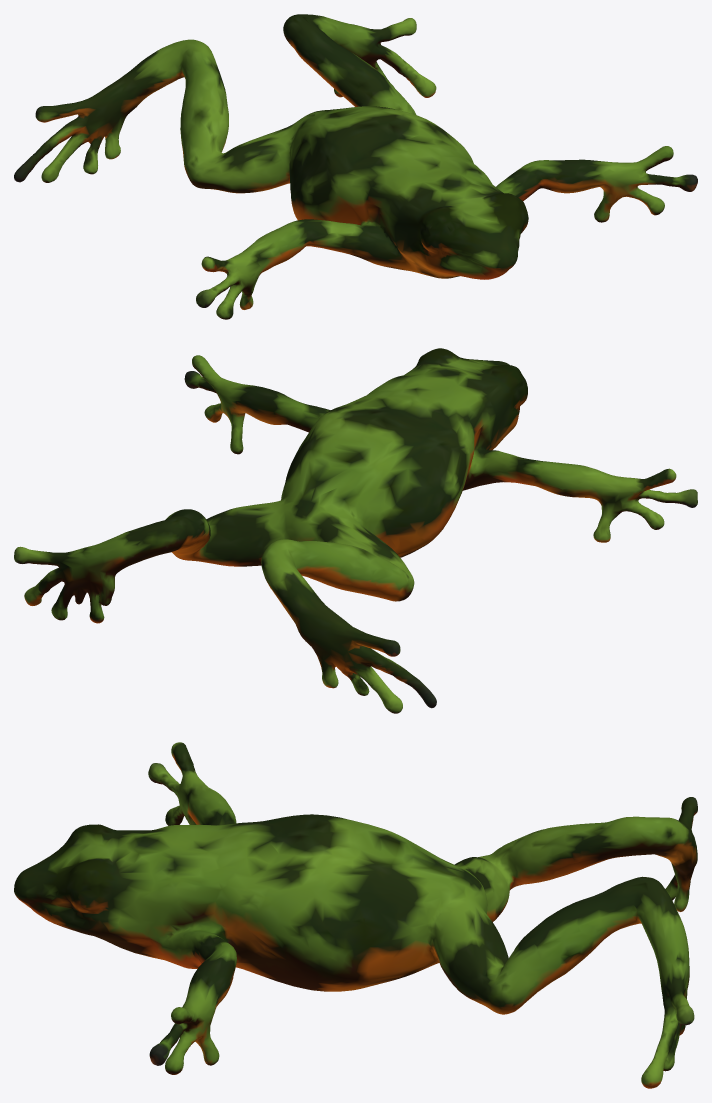
Rendered from toad.swim.glb.
The picture shows the model from 3 angles, top to bottom: view 1: azimuth 30°, elevation 25°; view 2: azimuth 150°, elevation 25°; view 3: azimuth 270°, elevation 25°; orthographic projection. The views are drawn at different scales.
Visible parts, largest first — view 1: toad.swim; view 2: toad.swim; view 3: toad.swim.
Boxes of the visible parts, x1,y1,x2,y2 form: toad.swim: [14, 14, 697, 319]; toad.swim: [14, 348, 697, 713]; toad.swim: [14, 742, 697, 1088].
Size of the model in its own units: 0.0656 by 0.0164 by 0.066.
